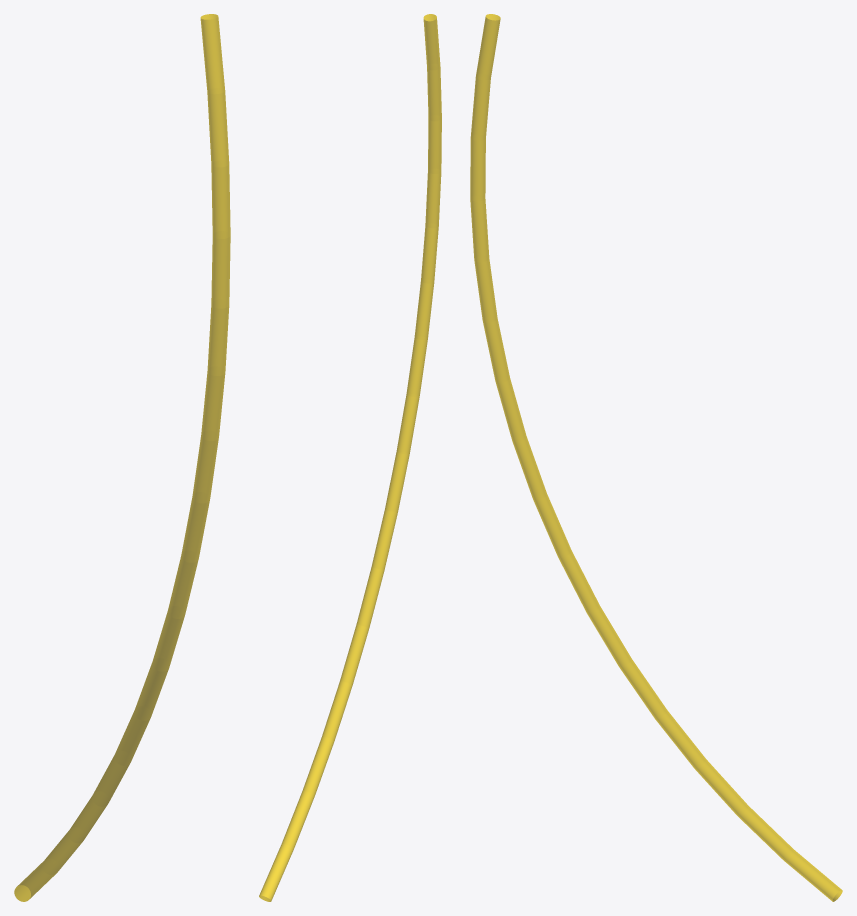
File: Event_17758602_track_9.fbx
The picture shows the model from 3 angles, left to right: view 1: azimuth 30°, elevation 25°; view 2: azimuth 150°, elevation 25°; view 3: azimuth 270°, elevation 25°; orthographic projection. The views are drawn at different scales.
Parts seen in each view (by area): view 1: Model; view 2: Model; view 3: Model.
Part boxes in pixels (<box>): Model: <box>14,14,230,901</box>; Model: <box>259,14,441,901</box>; Model: <box>470,14,842,901</box>.
Size of the model in its own units: 0.0827 by 2.55 by 0.9789.
